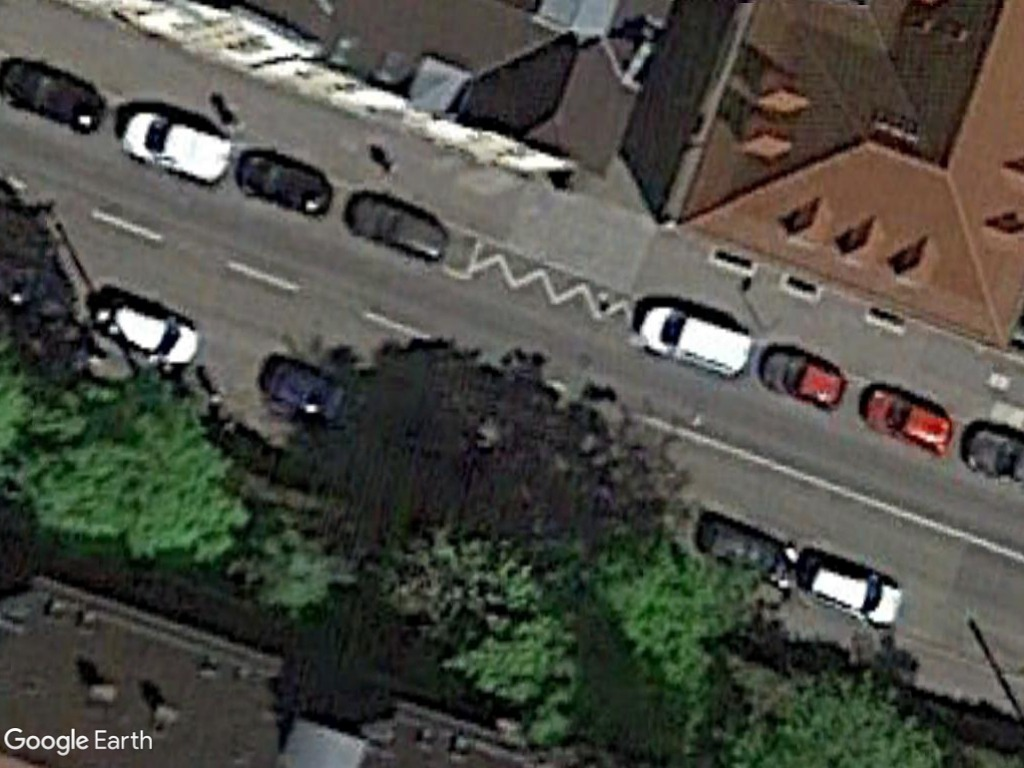car: (797, 546, 907, 630), (97, 299, 208, 373)
van: (116, 103, 235, 187), (636, 300, 755, 381)
